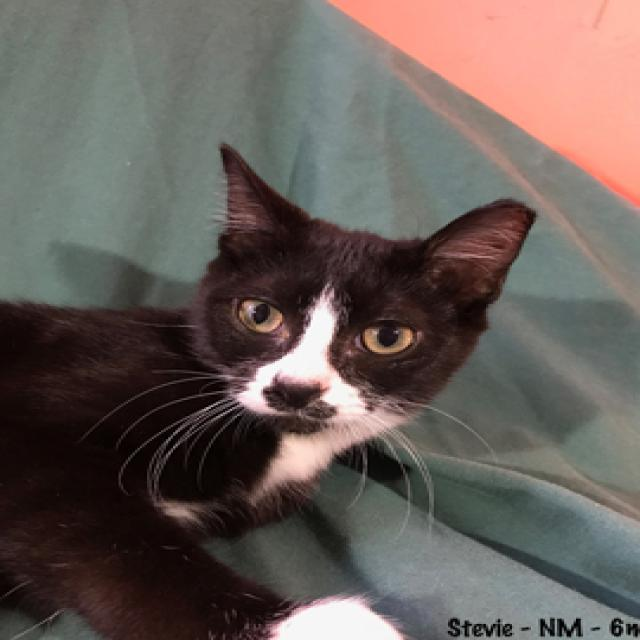Tuxedo: (0, 138, 540, 640)
